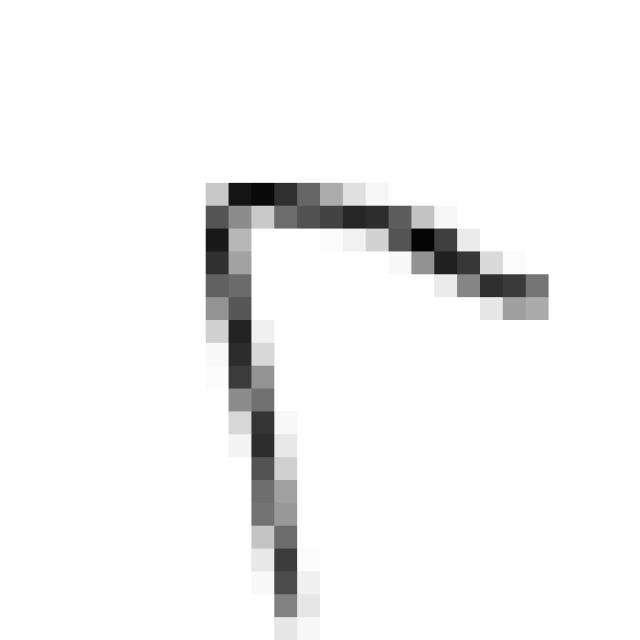8 -eight-: (176, 157, 577, 640)
